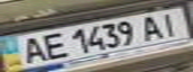1: (66, 26, 90, 55)
3: (103, 20, 124, 50)
4: (84, 22, 106, 52)
9: (115, 18, 139, 47)
A: (12, 34, 51, 64), (136, 12, 169, 42)
E: (36, 29, 69, 61)
I: (154, 10, 187, 38)
